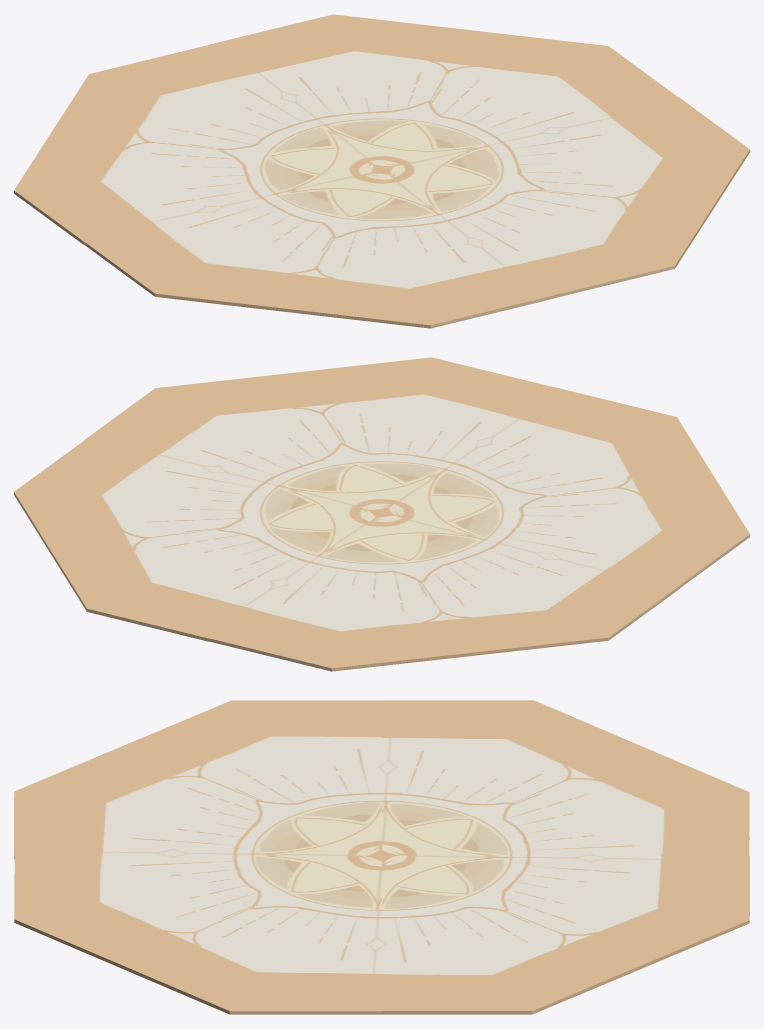
The model's file is slice_board 1.glb.
3 renders of one model, top to bottom at view 1: azimuth 30°, elevation 25°; view 2: azimuth 150°, elevation 25°; view 3: azimuth 270°, elevation 25°, orthographic. The views are drawn at different scales.
Visible parts, largest first — view 1: Plane.003, Plane, Plane.002, Plane.001; view 2: Plane.002, Plane.001, Plane.003, Plane; view 3: Plane.001, Plane, Plane.003, Plane.002.
Boxes of the visible parts, x1,y1,x2,y2 form: Plane.003: [85, 170, 553, 328]; Plane: [382, 97, 749, 298]; Plane.002: [14, 44, 381, 245]; Plane.001: [210, 14, 678, 169]; Plane.002: [210, 513, 679, 671]; Plane.001: [14, 440, 381, 641]; Plane.003: [382, 387, 749, 587]; Plane: [84, 357, 553, 512]; Plane.001: [382, 855, 749, 1014]; Plane: [14, 855, 381, 1014]; Plane.003: [14, 700, 381, 859]; Plane.002: [382, 700, 749, 855].
Size of the model in its own units: 0.488 by 0.00251 by 0.488.
Materials: 1 (1 with a texture image).
